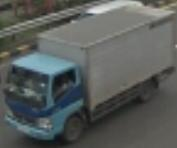truck: (1, 49, 93, 145)
